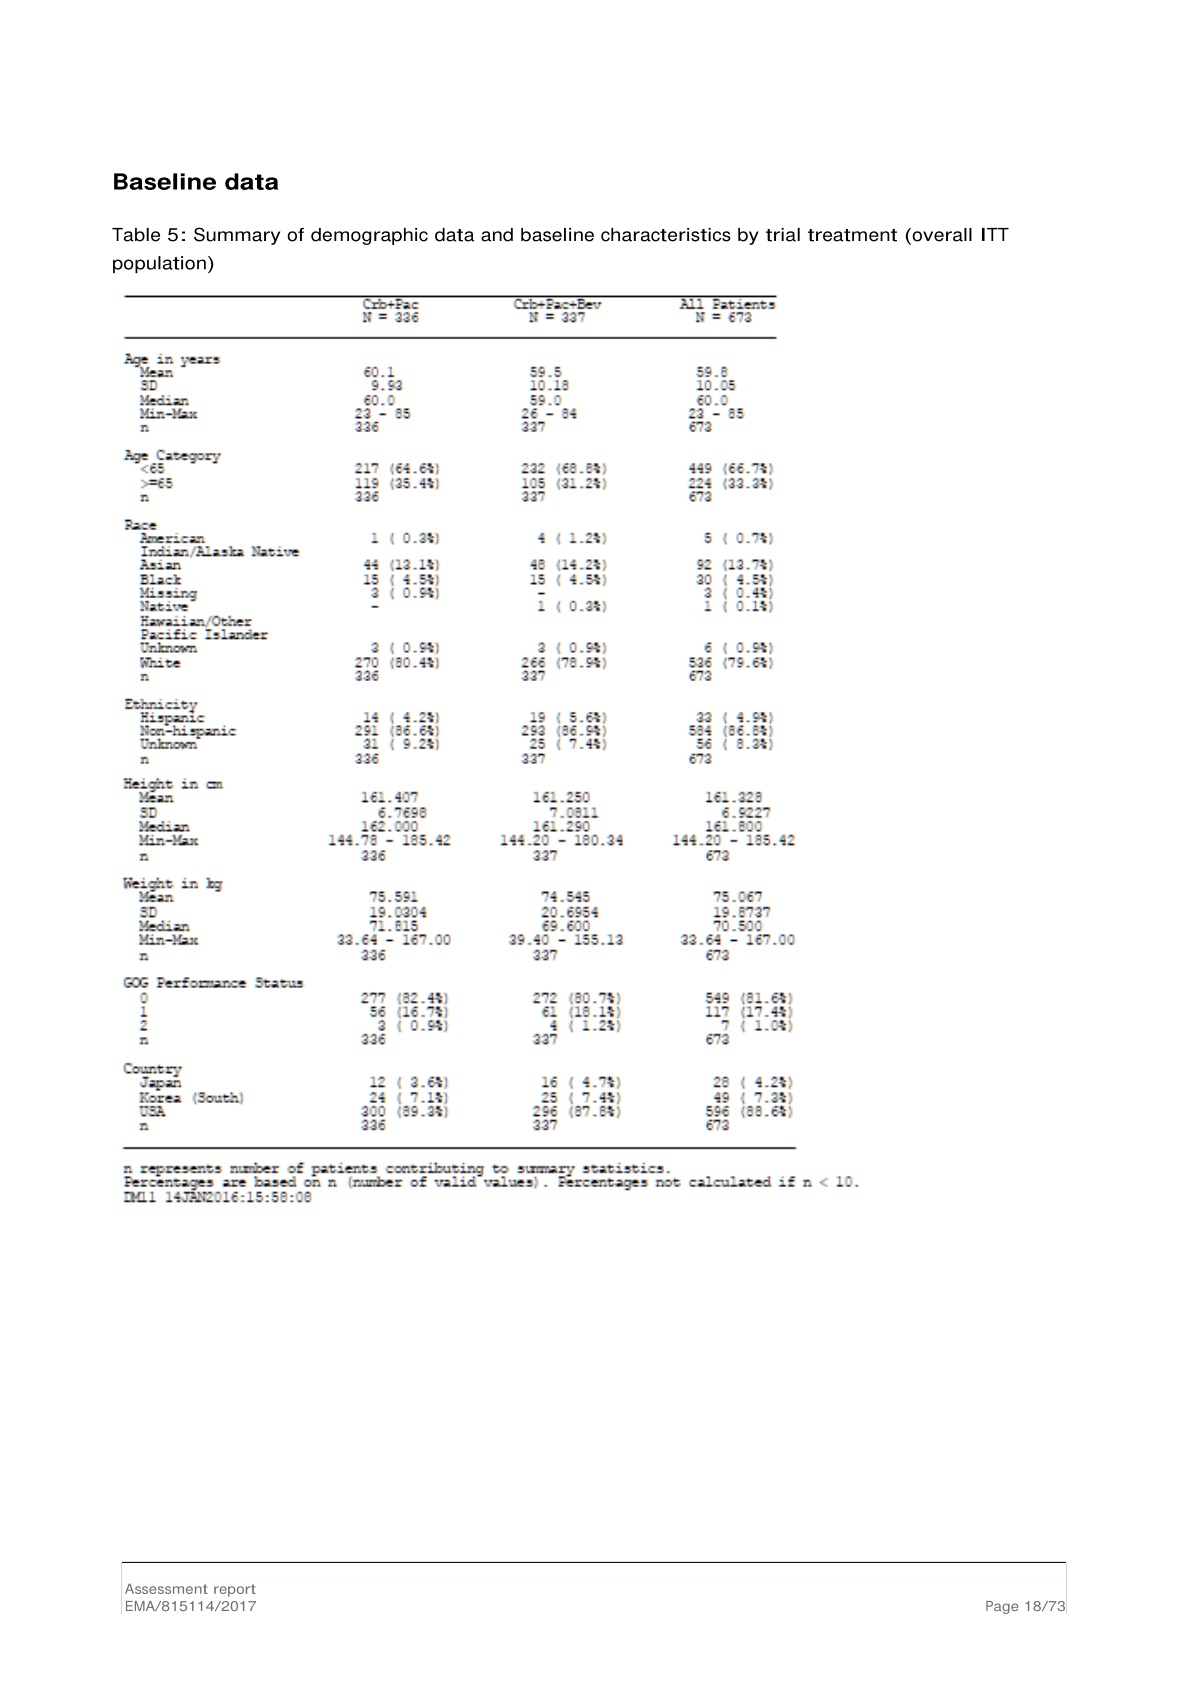partial_lined: (122, 294, 798, 1150)
